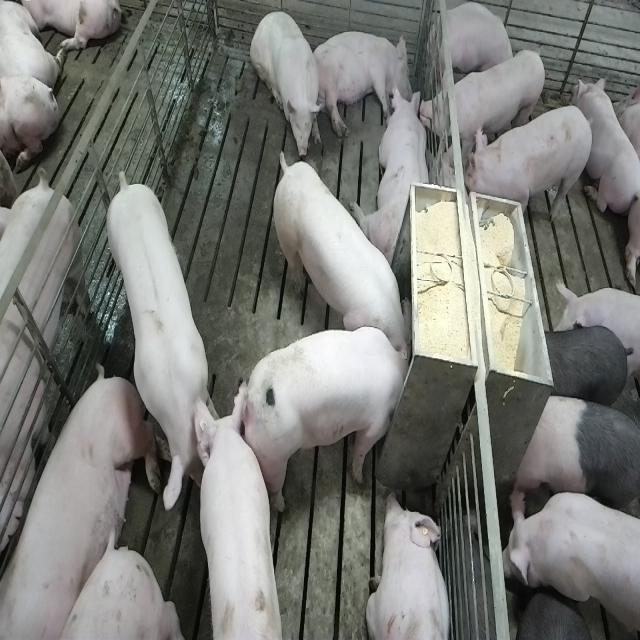Feeding: (245, 325, 420, 508), (268, 143, 411, 355)
Lateral_lying: (311, 30, 413, 138)
Sitting: (250, 7, 323, 160)
Standing: (105, 169, 220, 514), (0, 174, 90, 572), (196, 401, 286, 640), (502, 485, 638, 640), (512, 390, 638, 522), (466, 106, 595, 229), (420, 46, 548, 166), (536, 323, 634, 412)
Sternal_lying: (357, 86, 433, 268), (366, 490, 453, 640), (576, 74, 638, 221), (433, 2, 515, 88)
